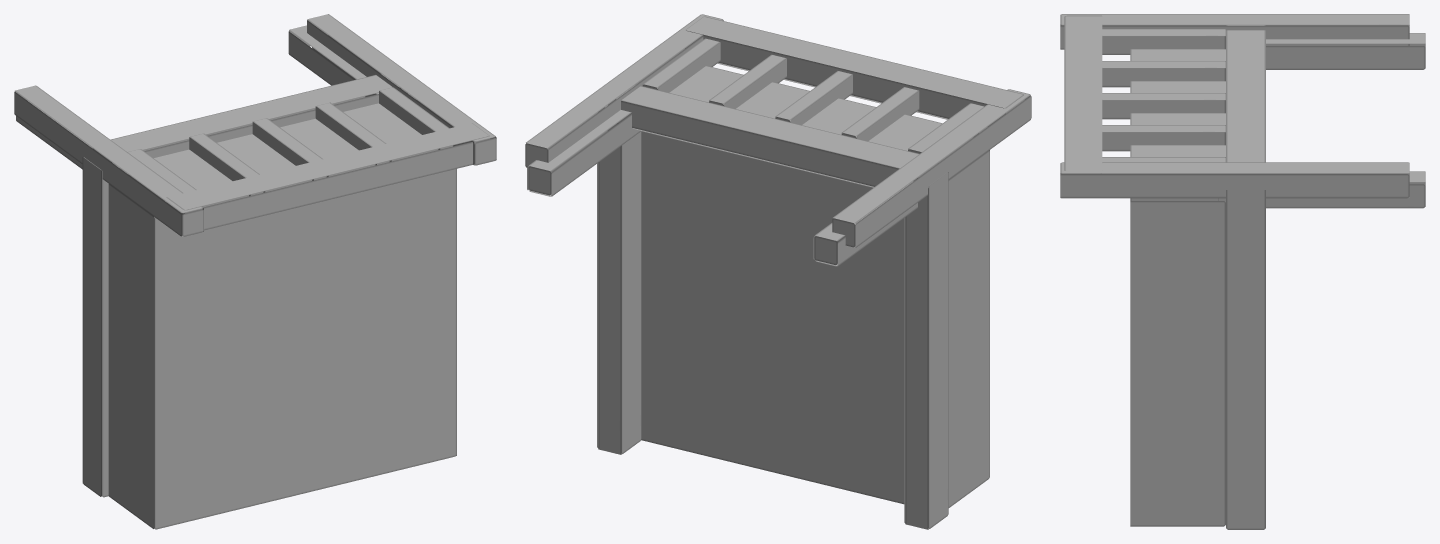
Rendered from pz_bed_bedding_01_fancy_0_1.obj.
3 views of the same model, side by side, from view 1: azimuth 30°, elevation 25°; view 2: azimuth 150°, elevation 25°; view 3: azimuth 270°, elevation 25° (orthographic). The views are drawn at different scales.
Parts seen in each view (by area): view 1: root; view 2: root; view 3: root.
Boxes of the visible parts, bbox=[...] form: root: bbox=[14, 14, 496, 529]; root: bbox=[525, 14, 1031, 529]; root: bbox=[1060, 14, 1425, 529].
Bounding box in the file's own units: 0.95 × 0.985 × 0.915.
Materials: 1 (1 with a texture image).
